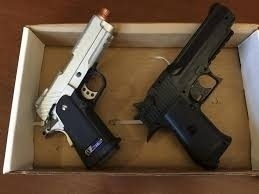pistol: (136, 7, 245, 168), (33, 14, 125, 170)
